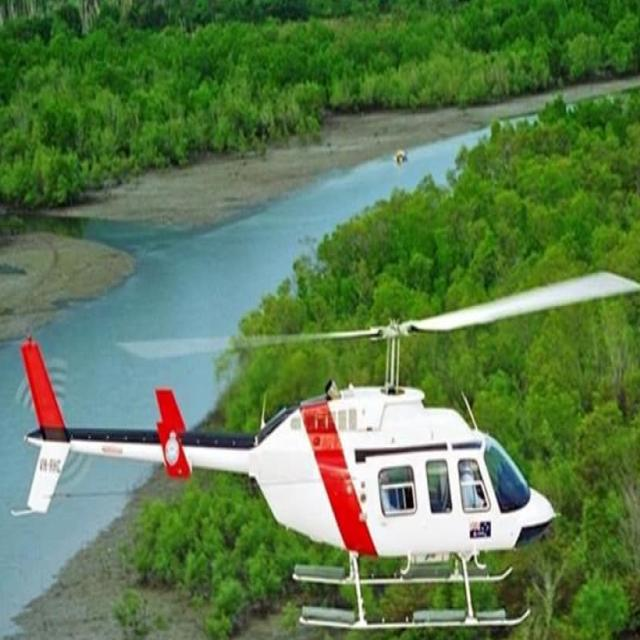helicopter: (10, 259, 640, 640)
